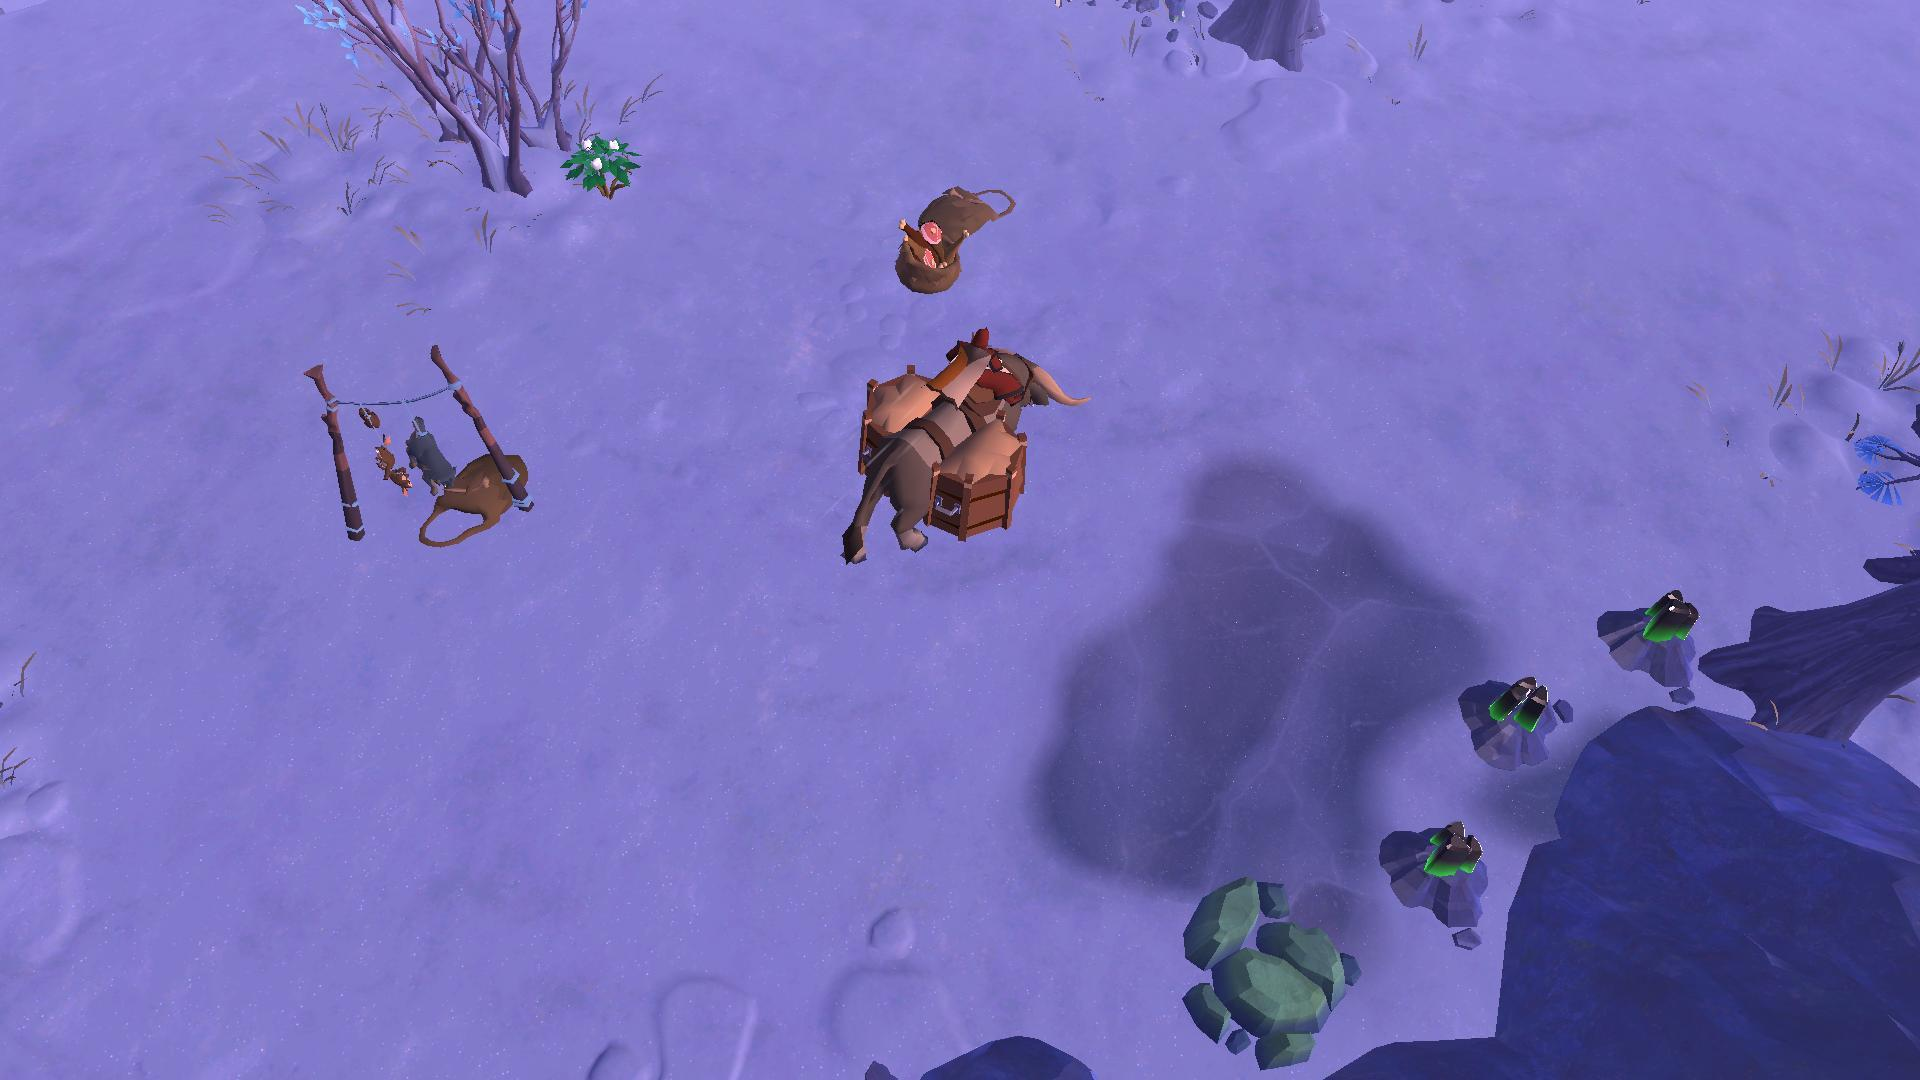fiber_t3: (554, 121, 634, 198)
ore_t3: (1484, 671, 1549, 735), (1419, 812, 1481, 878), (1640, 587, 1697, 646)
rock_t3: (1154, 864, 1375, 1069)
